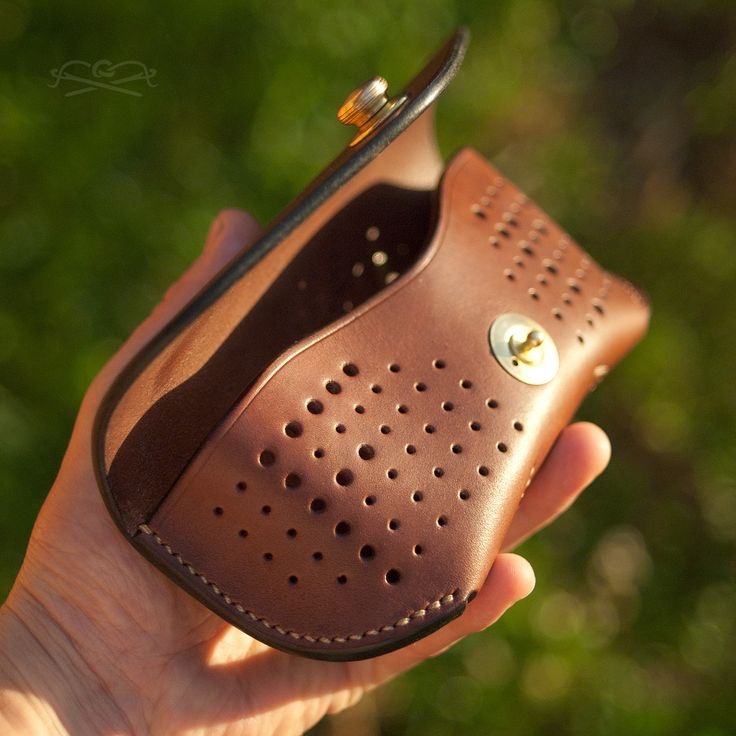cuero: (87, 30, 652, 659)
